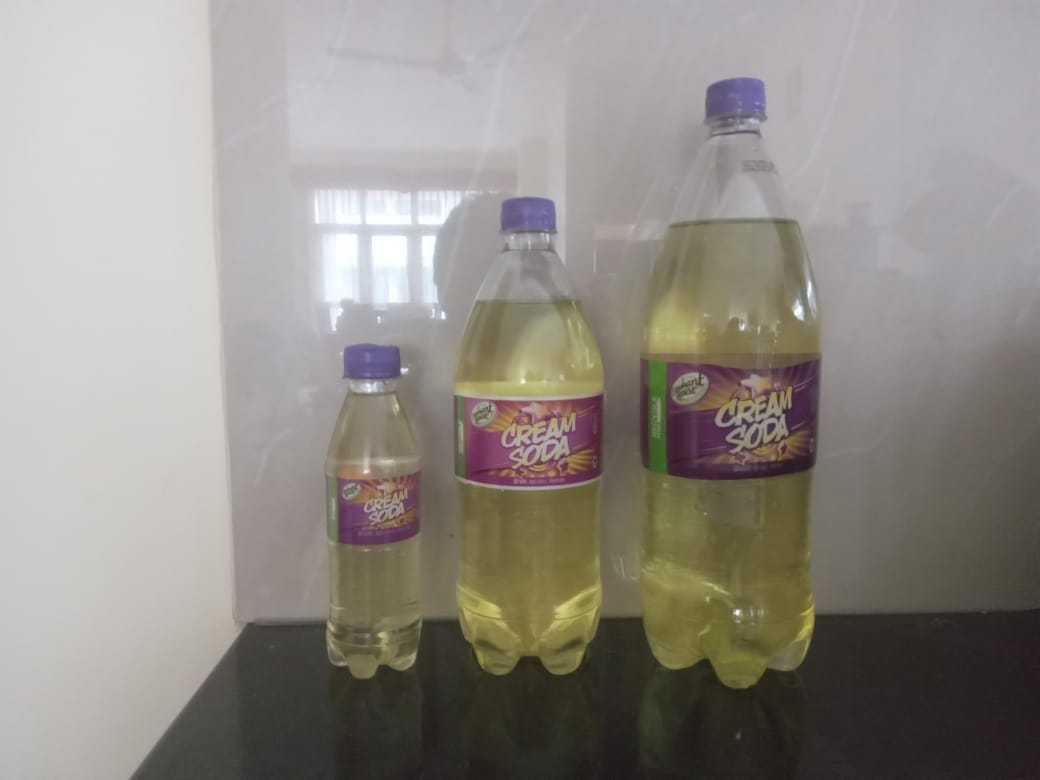L: (631, 75, 827, 695)
M: (441, 197, 613, 686)
Xs: (315, 339, 427, 690)
